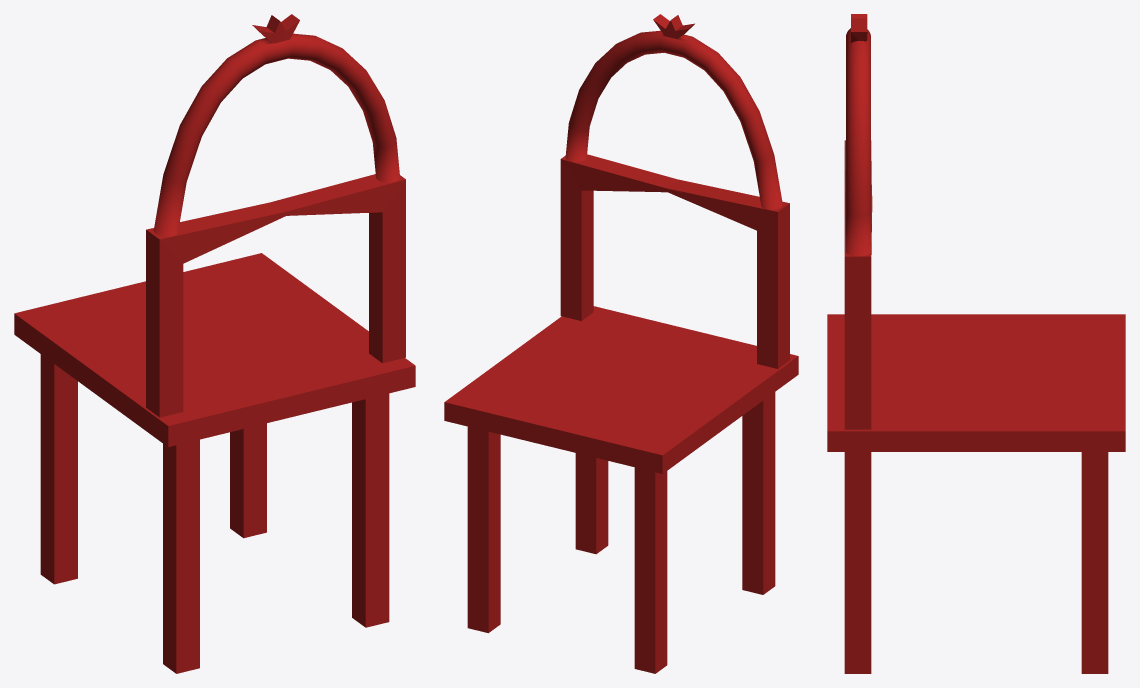
The model's file is SillaSalaPiano.obj.
3 renders of one model, left to right at view 1: azimuth 30°, elevation 25°; view 2: azimuth 150°, elevation 25°; view 3: azimuth 270°, elevation 25°, orthographic. The views are drawn at different scales.
Parts seen in each view (by area): view 1: Cube.023_Cube.026; view 2: Cube.023_Cube.026; view 3: Cube.023_Cube.026.
Boxes of the visible parts, x1=… form: Cube.023_Cube.026: x1=14, y1=14, x2=415, y2=673; Cube.023_Cube.026: x1=444, y1=14, x2=798, y2=673; Cube.023_Cube.026: x1=827, y1=14, x2=1125, y2=673.
Size of the model in its own units: 4.29 by 10.35 by 4.63.
1 material, 1 textured.
